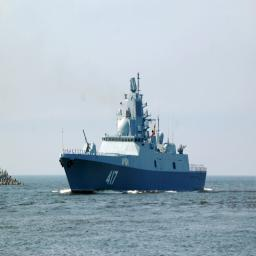Fragata: (61, 69, 209, 200)
